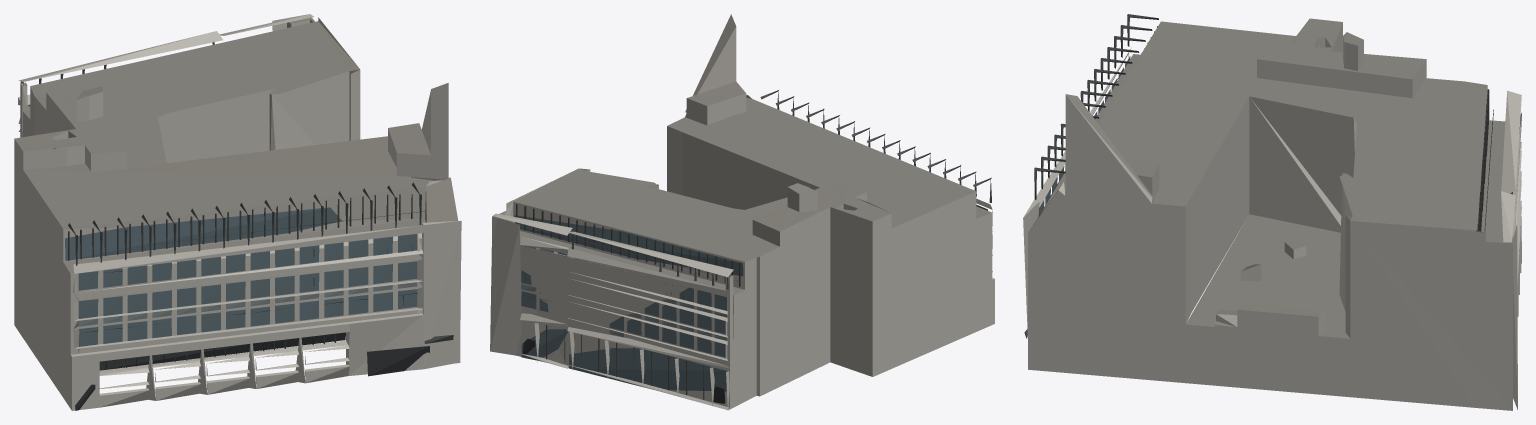
File: spaarbank-singel-548.lod1.glb
3 views of the same model, side by side, from view 1: azimuth 30°, elevation 25°; view 2: azimuth 150°, elevation 25°; view 3: azimuth 270°, elevation 25° (orthographic). The views are drawn at different scales.
Parts seen in each view (by area): view 1: spaarbank-singel-548; view 2: spaarbank-singel-548; view 3: spaarbank-singel-548.
Part boxes in pixels (x1,y1,x2,y2): spaarbank-singel-548: [14, 14, 461, 410]; spaarbank-singel-548: [490, 14, 994, 410]; spaarbank-singel-548: [1023, 14, 1521, 410].
Bounding box in the file's own units: 53.51 × 32.26 × 52.29.
